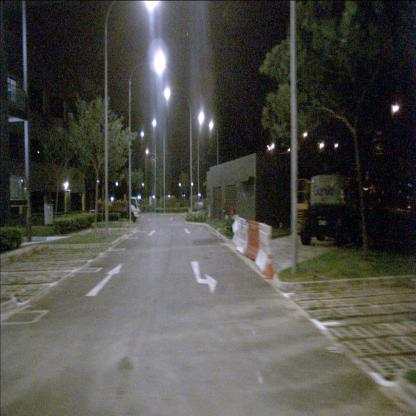movable_object-barrier: (254, 222, 273, 275), (244, 218, 260, 264), (236, 217, 249, 256), (232, 212, 242, 258)
movable_object-trafficcone: (264, 239, 274, 279), (264, 237, 274, 270)
vehicle-truck: (301, 174, 365, 245), (97, 196, 141, 223)
